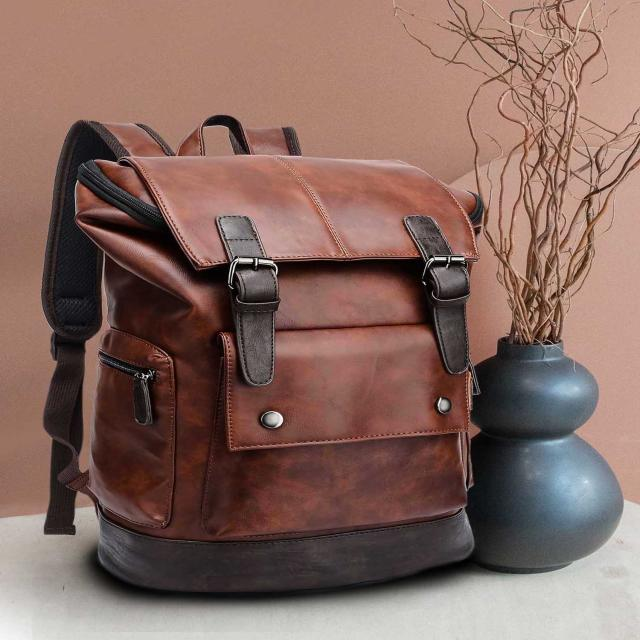backpack: (42, 115, 486, 595)
